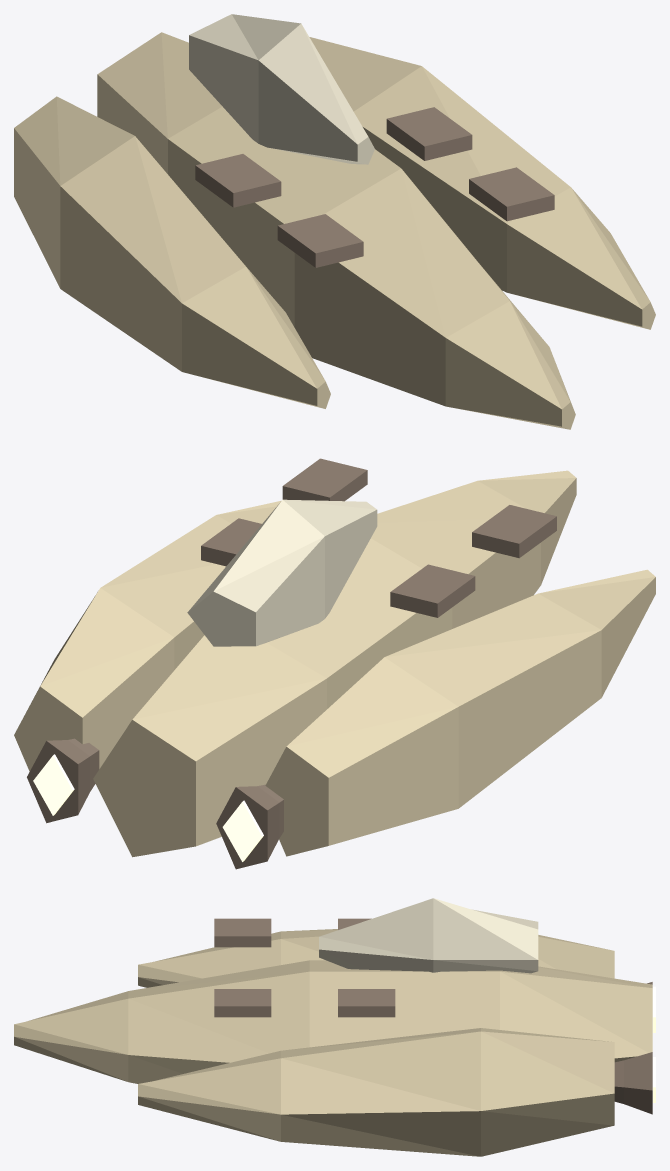
The picture shows the model from 3 angles, top to bottom: view 1: azimuth 30°, elevation 25°; view 2: azimuth 150°, elevation 25°; view 3: azimuth 270°, elevation 25°; orthographic projection. The views are drawn at different scales.
Bounding box in the file's own units: 6.9 × 4.36 × 11.9.
